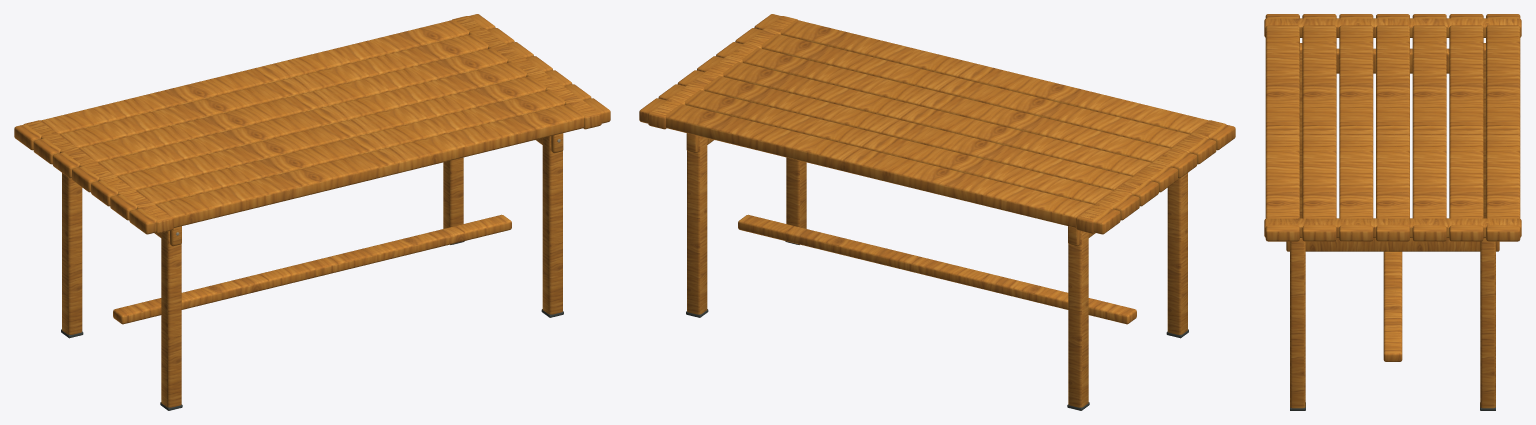
Rendered from patio-dining-table.glb.
The picture shows the model from 3 angles, left to right: view 1: azimuth 30°, elevation 25°; view 2: azimuth 150°, elevation 25°; view 3: azimuth 270°, elevation 25°; orthographic projection. The views are drawn at different scales.
Visible parts, largest first — view 1: patio-dining-table; view 2: patio-dining-table; view 3: patio-dining-table.
Boxes of the visible parts, x1,y1,x2,y2 form: patio-dining-table: (14,14,610,410); patio-dining-table: (639,14,1235,410); patio-dining-table: (1264,14,1521,410).
Size of the model in its own units: 1.8 by 0.76 by 0.9.
Materials: 3 (1 with a texture image).
